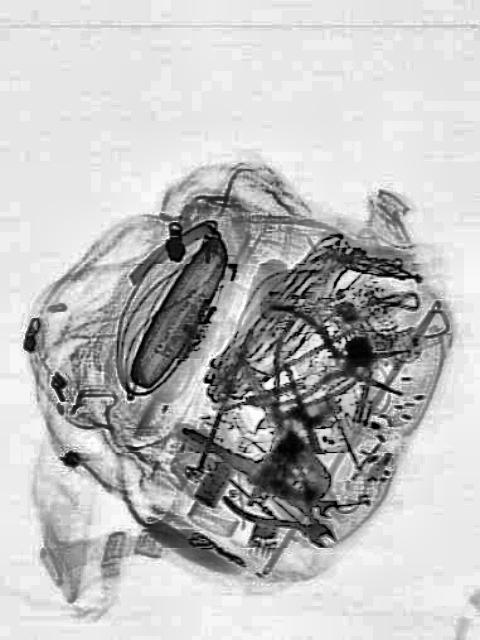Pliers: (178, 327, 360, 547), (218, 416, 358, 586), (240, 298, 412, 422)
Wrench: (274, 465, 340, 521)
